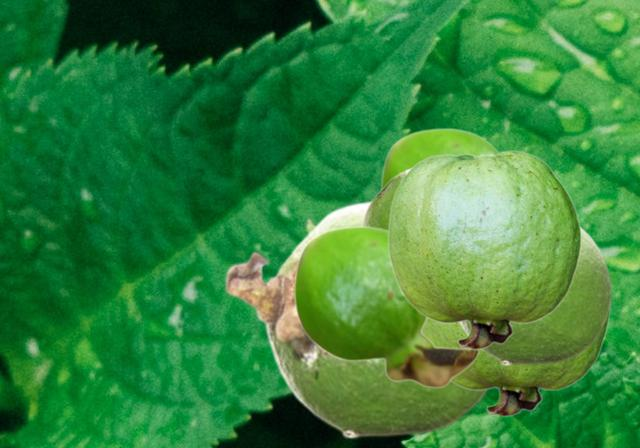guava: (223, 199, 491, 438), (387, 150, 581, 349), (293, 225, 479, 388), (458, 227, 612, 365), (424, 313, 610, 416), (380, 127, 498, 188), (361, 168, 408, 228)
